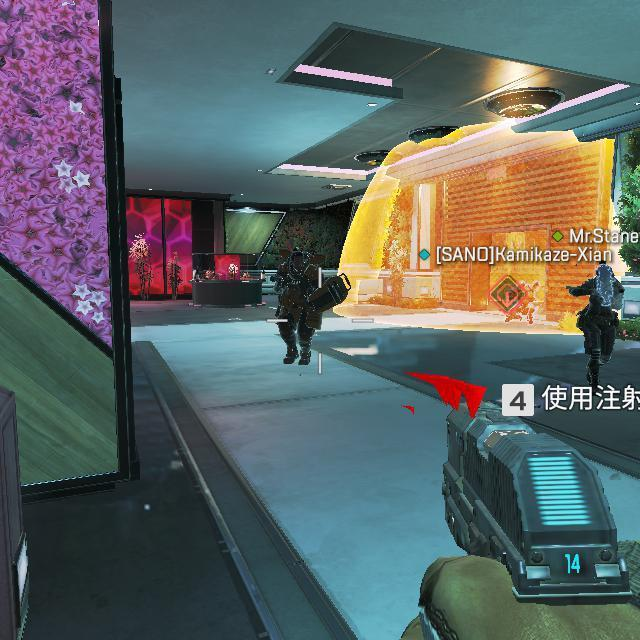avatar: (565, 260, 628, 397), (271, 247, 328, 368)
